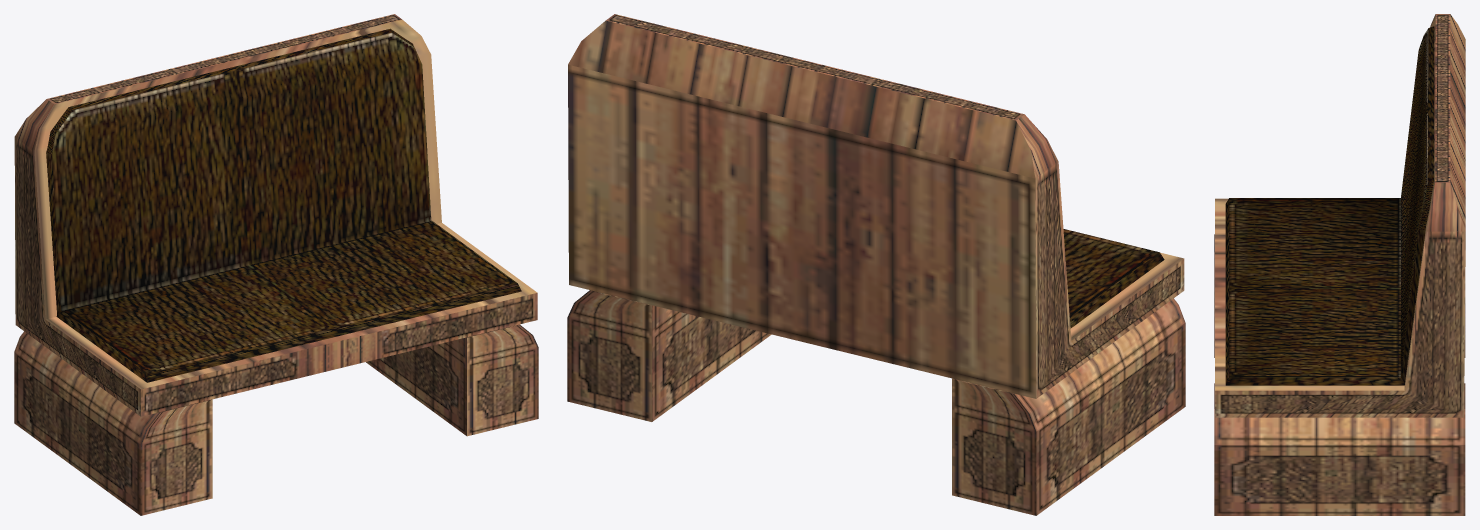
File: frn_all_eleg_love_seat_s02_l0.fbx
3 renders of one model, left to right at view 1: azimuth 30°, elevation 25°; view 2: azimuth 150°, elevation 25°; view 3: azimuth 270°, elevation 25°, orthographic. The views are drawn at different scales.
Visible parts, largest first — view 1: mesh_node; view 2: mesh_node; view 3: mesh_node.
Boxes of the visible parts, x1,y1,x2,y2 form: mesh_node: (14, 14, 538, 515); mesh_node: (567, 14, 1185, 515); mesh_node: (1214, 14, 1465, 515).
Bounding box in the file's own units: 1.28 × 0.9972 × 0.7077.
